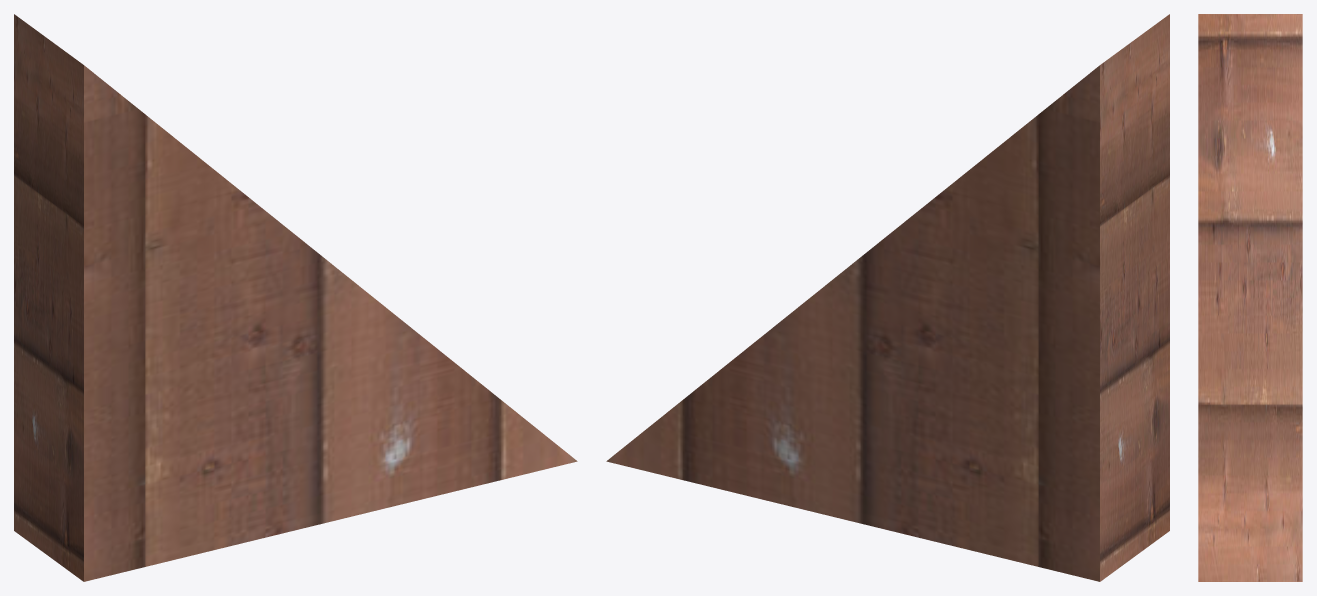
The model's file is triangle_wood.glb.
3 renders of one model, left to right at view 1: azimuth 30°, elevation 25°; view 2: azimuth 150°, elevation 25°; view 3: azimuth 270°, elevation 25°, orthographic. The views are drawn at different scales.
Parts seen in each view (by area): view 1: triangle; view 2: triangle; view 3: triangle.
Part boxes in pixels (<box>): triangle: <box>14,14,577,581</box>; triangle: <box>606,14,1169,581</box>; triangle: <box>1198,14,1302,581</box>.
Size of the model in its own units: 0.9 by 0.9 by 0.22.
Materials: 1 (1 with a texture image).
